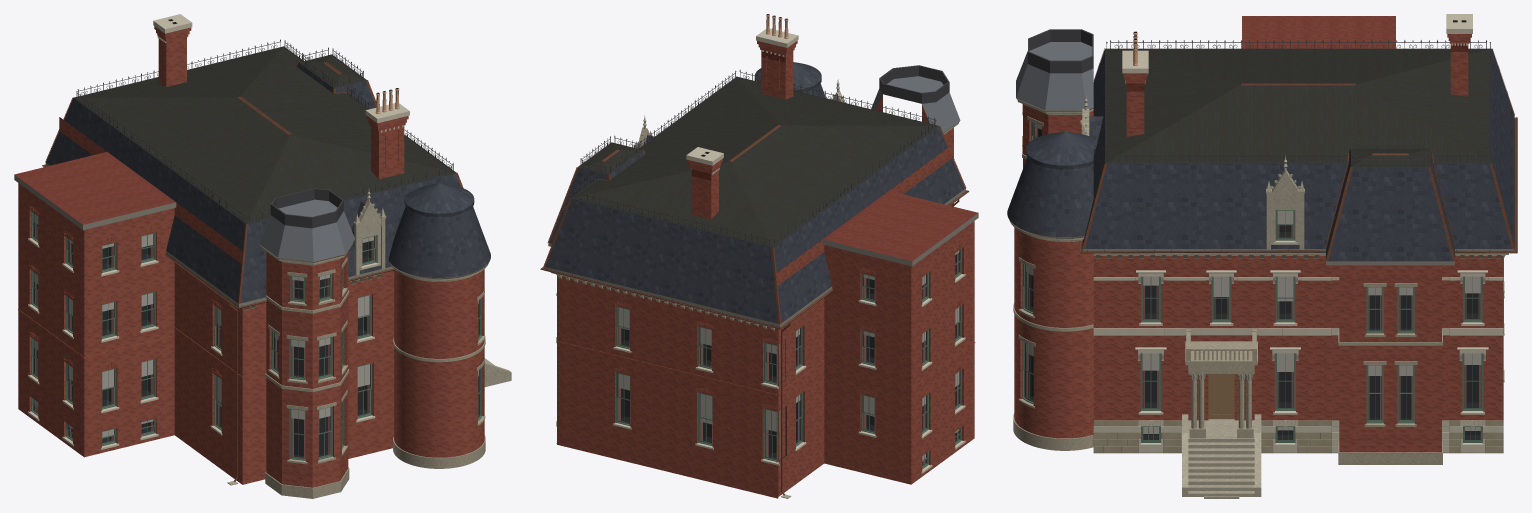
Rendered from tucker_smith_house_2140_prairie__as_mapped_1904.glb.
3 views of the same model, side by side, from view 1: azimuth 30°, elevation 25°; view 2: azimuth 150°, elevation 25°; view 3: azimuth 270°, elevation 25° (orthographic). The views are drawn at different scales.
Parts seen in each view (by area): view 1: tucker_smith_house_2140_prairie__as_mapped_1904; view 2: tucker_smith_house_2140_prairie__as_mapped_1904; view 3: tucker_smith_house_2140_prairie__as_mapped_1904.
Boxes of the visible parts, bbox=[...] form: tucker_smith_house_2140_prairie__as_mapped_1904: bbox=[14, 14, 511, 498]; tucker_smith_house_2140_prairie__as_mapped_1904: bbox=[540, 14, 978, 498]; tucker_smith_house_2140_prairie__as_mapped_1904: bbox=[1007, 14, 1517, 498].
Size of the model in its own units: 23.63 by 19.09 by 23.15.
30 materials, 18 textured.
